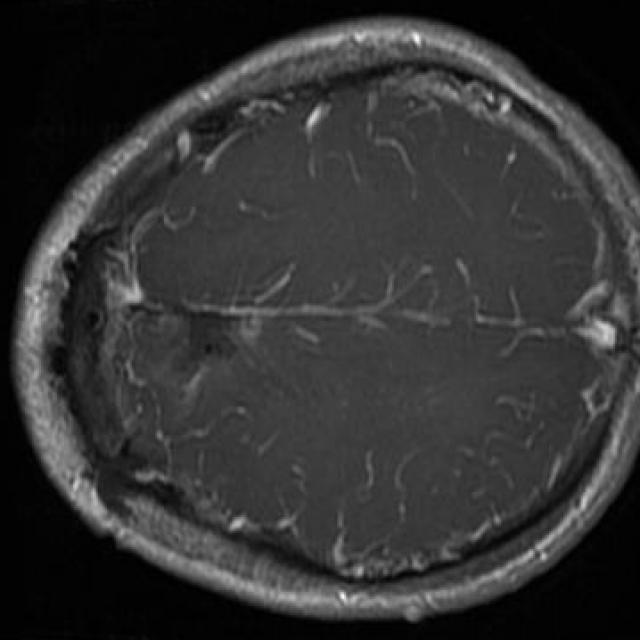glioma: (107, 210, 294, 419)
